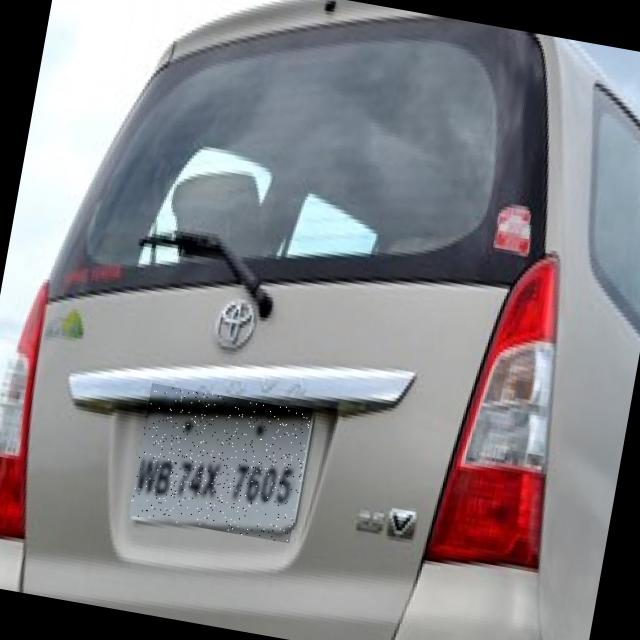Plate: (129, 384, 313, 544)
